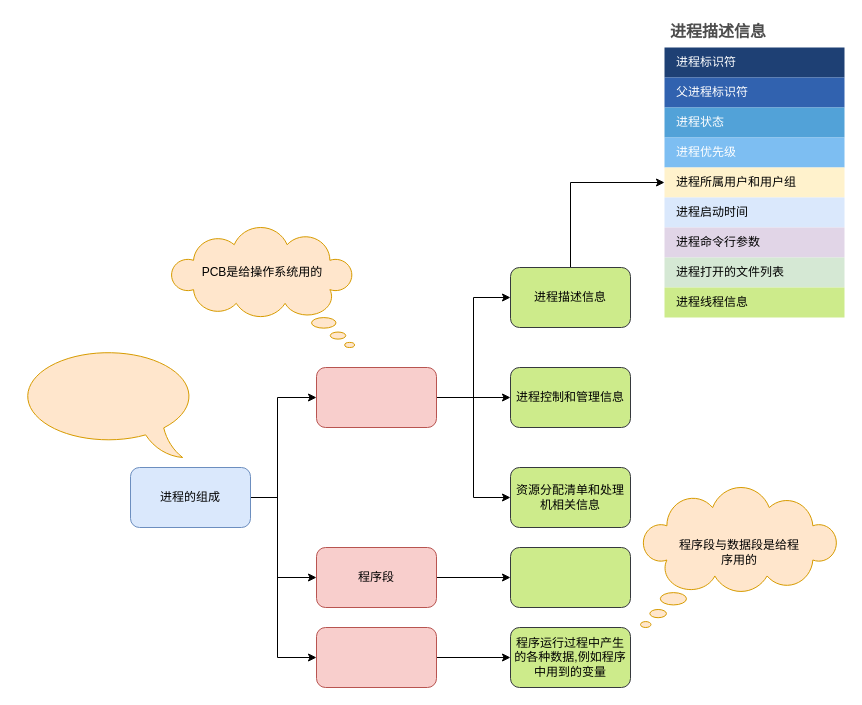
This 862x705 diagram has some shape labels left out. The box of each missing label's shape, as (x1, y1, x2, y2) in pixels:
数据段: (316, 626, 436, 688)
更确切的是，进程实体的组成: (16, 346, 198, 458)
程序代码(指令序列): (510, 546, 630, 608)
程序控制块PCB: (316, 366, 436, 428)
